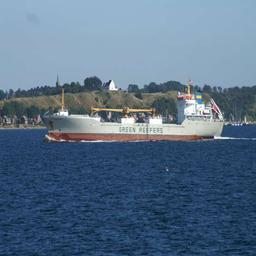Ship: (45, 92, 228, 145)
